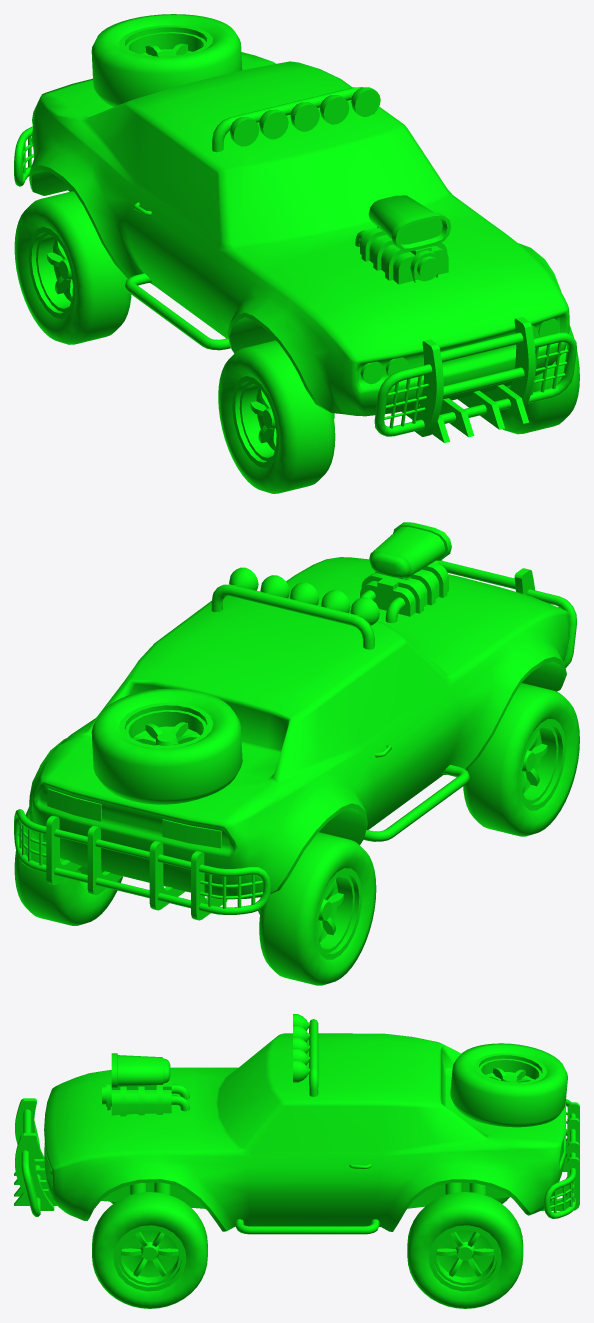
Rendered from Car_02.fbx.
3 renders of one model, top to bottom at view 1: azimuth 30°, elevation 25°; view 2: azimuth 150°, elevation 25°; view 3: azimuth 270°, elevation 25°, orthographic. The views are drawn at different scales.
Visible parts, largest first — view 1: Car_Body_02, FR, RR, FL; view 2: Car_Body_02, RR, FR, RL; view 3: Car_Body_02, RL, FL.
Boxes of the visible parts, left/top/right/bottom form: Car_Body_02: left=14, top=14, right=576, bottom=442; FR: left=218, top=340, right=335, bottom=493; RR: left=14, top=191, right=131, bottom=344; FL: left=500, top=325, right=579, bottom=434; Car_Body_02: left=14, top=522, right=576, bottom=920; RR: left=259, top=832, right=376, bottom=985; FR: left=463, top=683, right=579, bottom=836; RL: left=14, top=807, right=122, bottom=925; Car_Body_02: left=14, top=1014, right=579, bottom=1234; RL: left=407, top=1192, right=523, bottom=1308; FL: left=92, top=1192, right=207, bottom=1308.
Bounding box in the file's own units: 272 × 580 × 247.
